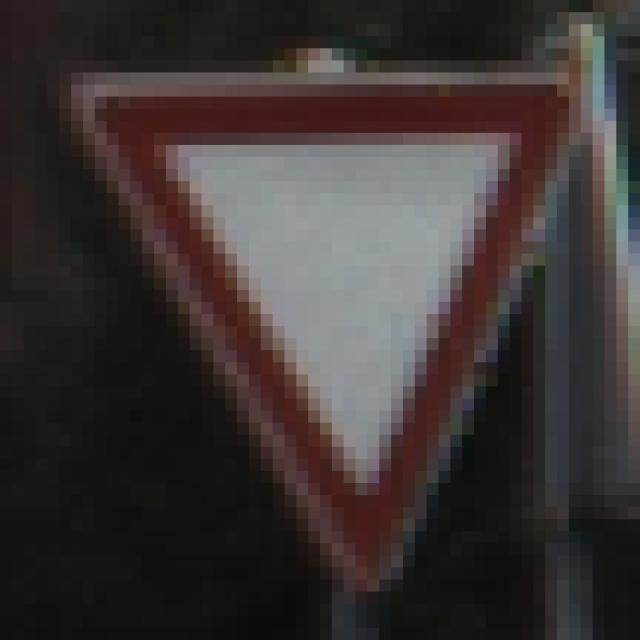Give Way: (60, 62, 582, 569)
